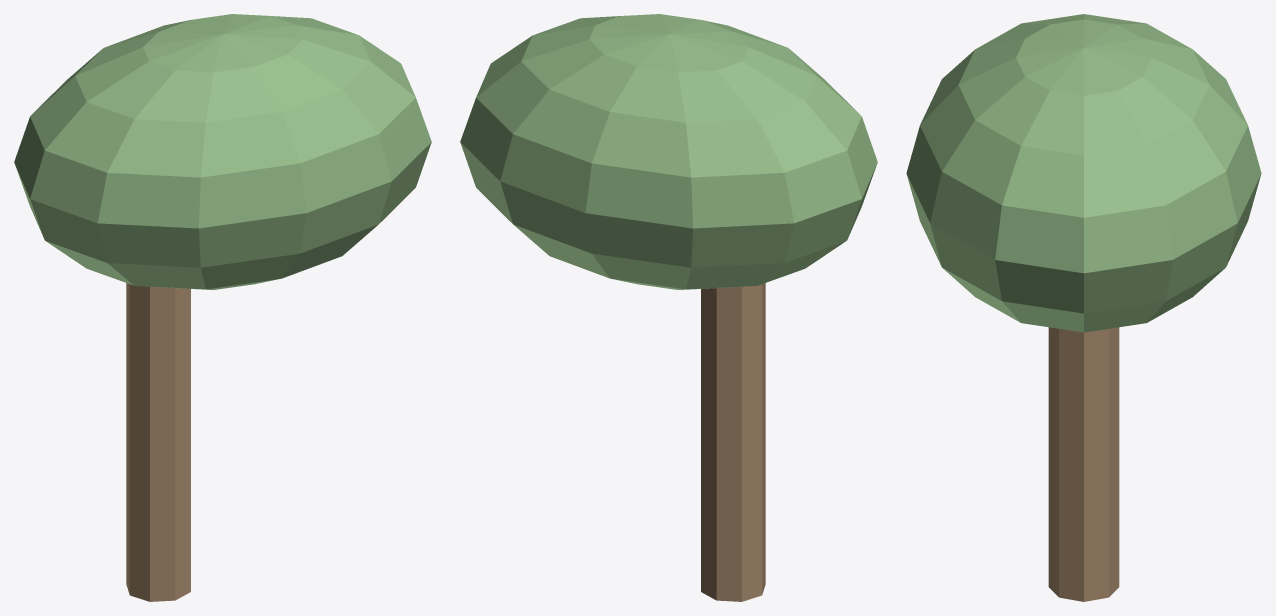
Rendered from windswept_scrub.glb.
3 views of the same model, side by side, from view 1: azimuth 30°, elevation 25°; view 2: azimuth 150°, elevation 25°; view 3: azimuth 270°, elevation 25° (orthographic). The views are drawn at different scales.
Visible parts, largest first — view 1: canopy, trunk; view 2: canopy, trunk; view 3: canopy, trunk.
Boxes of the visible parts, x1=… form: canopy: x1=14, y1=14, x2=431, y2=289; trunk: x1=126, y1=283, x2=190, y2=601; canopy: x1=460, y1=14, x2=877, y2=289; trunk: x1=701, y1=283, x2=765, y2=601; canopy: x1=906, y1=14, x2=1261, y2=332; trunk: x1=1048, y1=327, x2=1119, y2=601.
Size of the model in its own units: 2.4 by 3.2 by 1.8.
